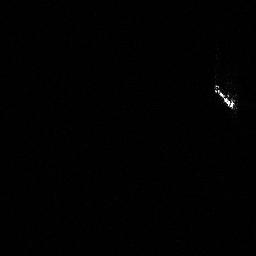ship: (210, 81, 240, 113)
